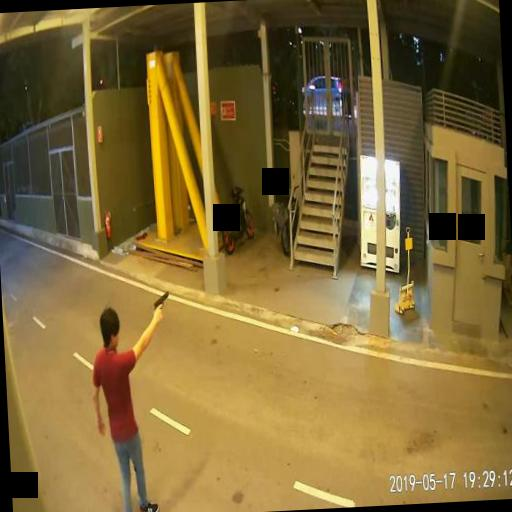Handgun: (153, 290, 168, 318)
